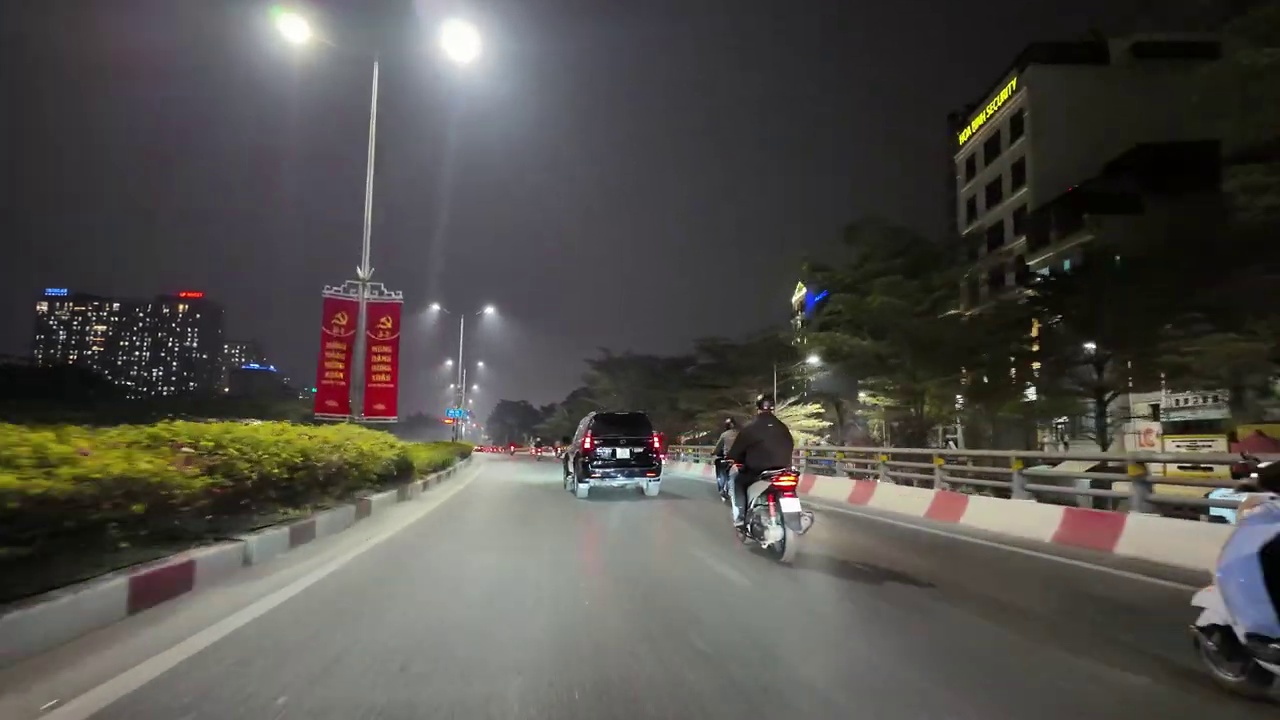acesa: (271, 7, 318, 56), (438, 22, 479, 63), (478, 302, 505, 333), (418, 299, 444, 325)
